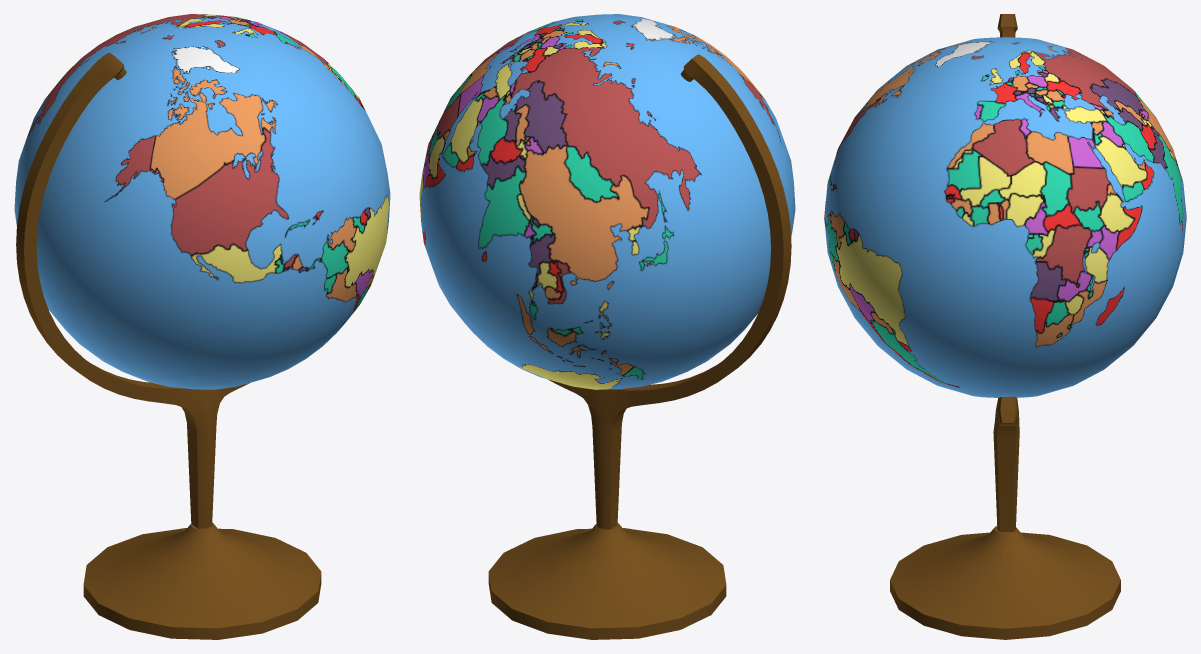
Rendered from Globe.fbx.
3 renders of one model, left to right at view 1: azimuth 30°, elevation 25°; view 2: azimuth 150°, elevation 25°; view 3: azimuth 270°, elevation 25°, orthographic. The views are drawn at different scales.
Visible parts, largest first — view 1: Globe, Globe stand; view 2: Globe, Globe stand; view 3: Globe, Globe stand.
Boxes of the visible parts, x1=… form: Globe: x1=14, y1=14, x2=390, y2=389; Globe stand: x1=16, y1=52, x2=321, y2=639; Globe: x1=419, y1=14, x2=795, y2=389; Globe stand: x1=488, y1=54, x2=791, y2=639; Globe: x1=824, y1=37, x2=1186, y2=397; Globe stand: x1=890, y1=14, x2=1120, y2=639.
Bounding box in the file's own units: 32.4 × 50.22 × 30.71.
